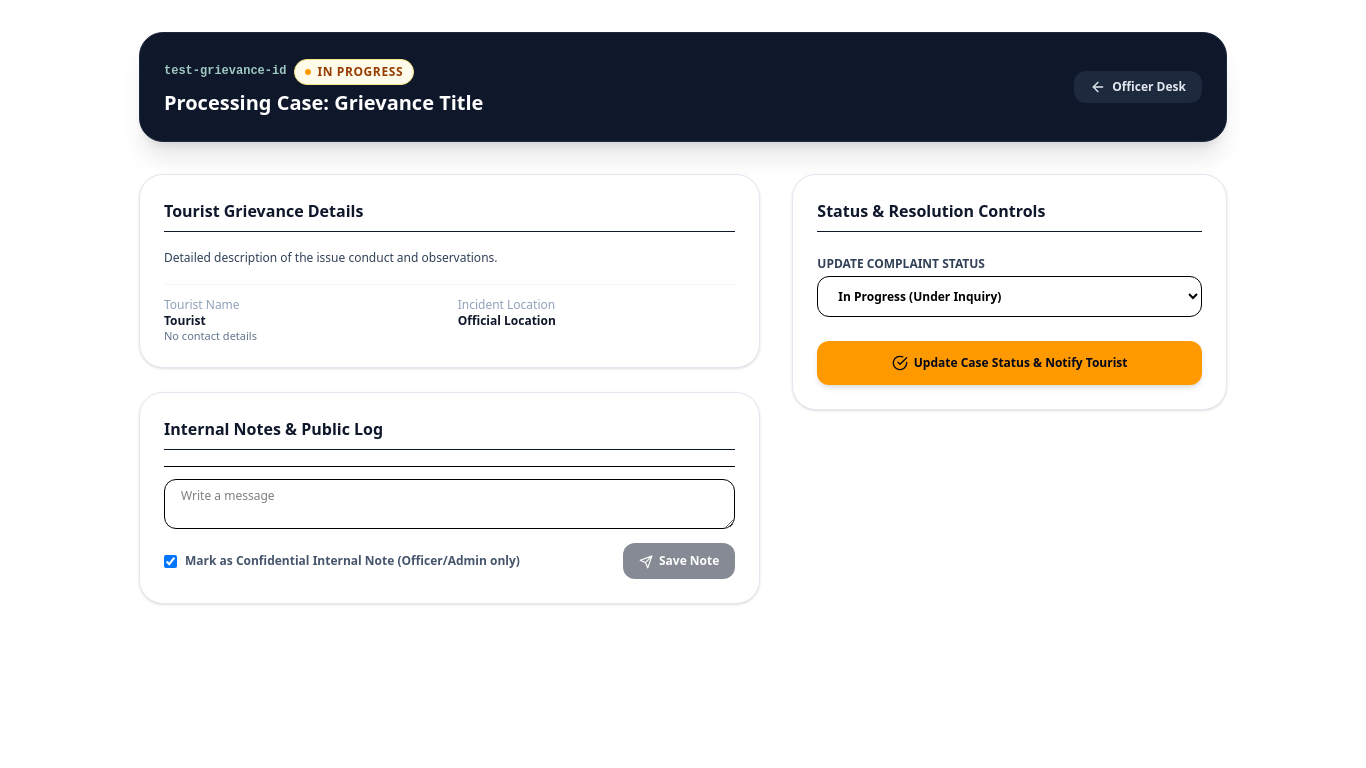
GrievanceProcessingComponent - Proof Auto-Upload Workflow › 3. confirms proof section is hidden when in_progress and displays "No file selected" when resolved
The image size is (1366, 768).
Select "Resolved (Complete)" in the dropdown at (1010, 296), box [817,276,1202,317]
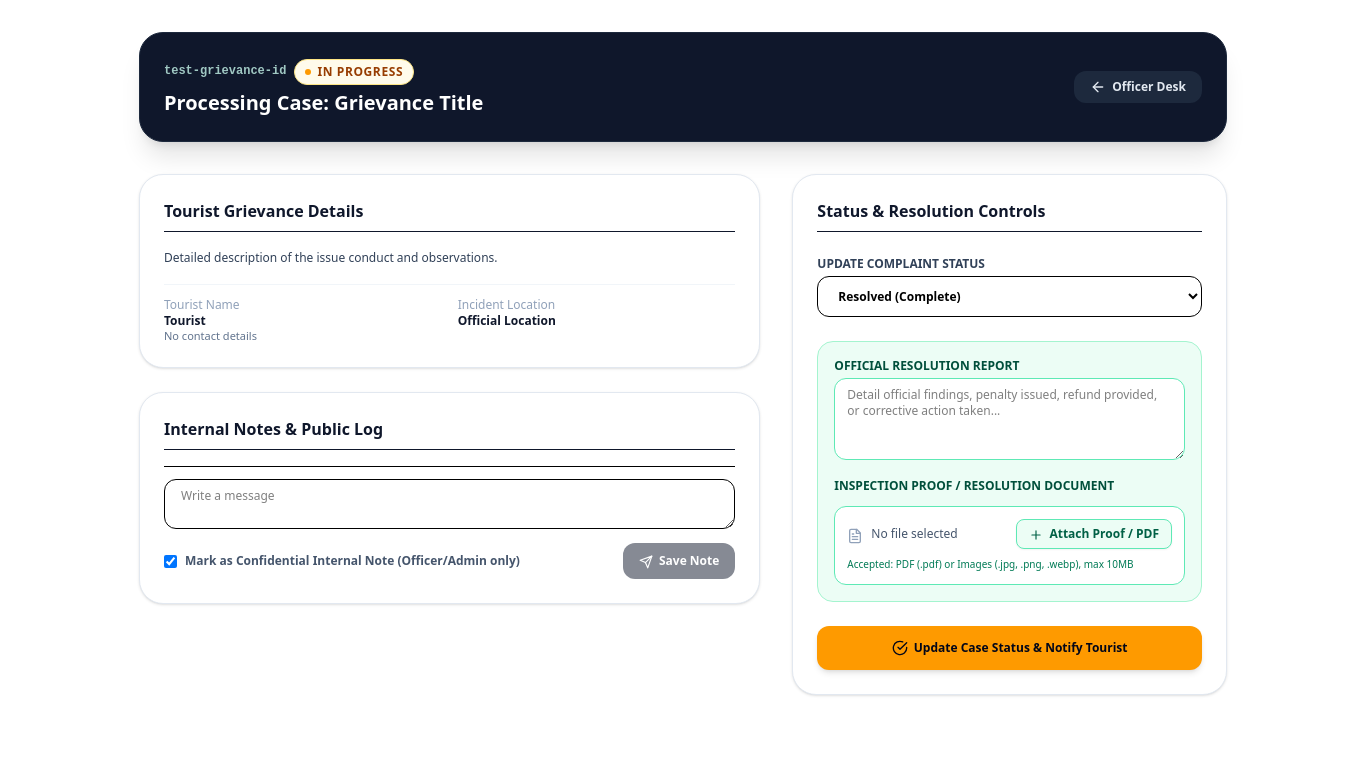
Result: the text "No file selected" is shown at [871,526,958,542]
